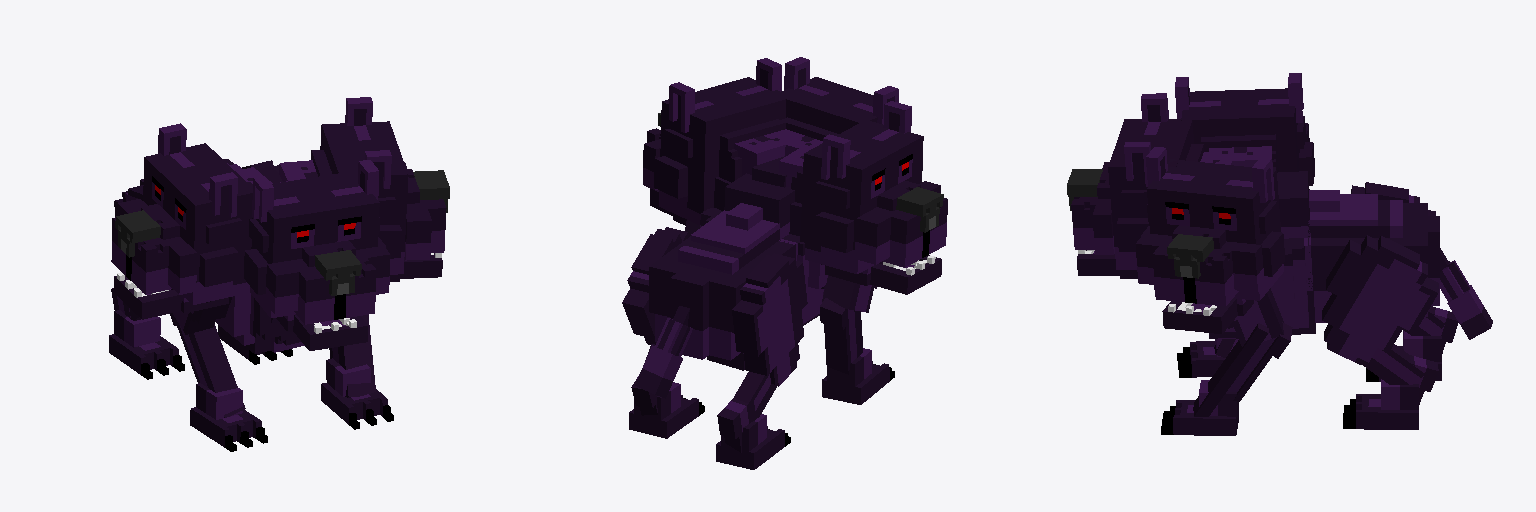
The picture shows the model from 3 angles: view 1: azimuth 30°, elevation 25°; view 2: azimuth 150°, elevation 25°; view 3: azimuth 270°, elevation 25°; orthographic projection.
Visible parts, largest first — view 1: Model; view 2: Model; view 3: Model.
Part boxes in pixels (left/top/right/bottom): Model: left=109, top=97, right=449, bottom=451; Model: left=622, top=57, right=947, bottom=469; Model: left=1067, top=73, right=1492, bottom=435.
Bounding box in the file's own units: 54.93 × 49.55 × 67.85.
1 materials, 1 textured.